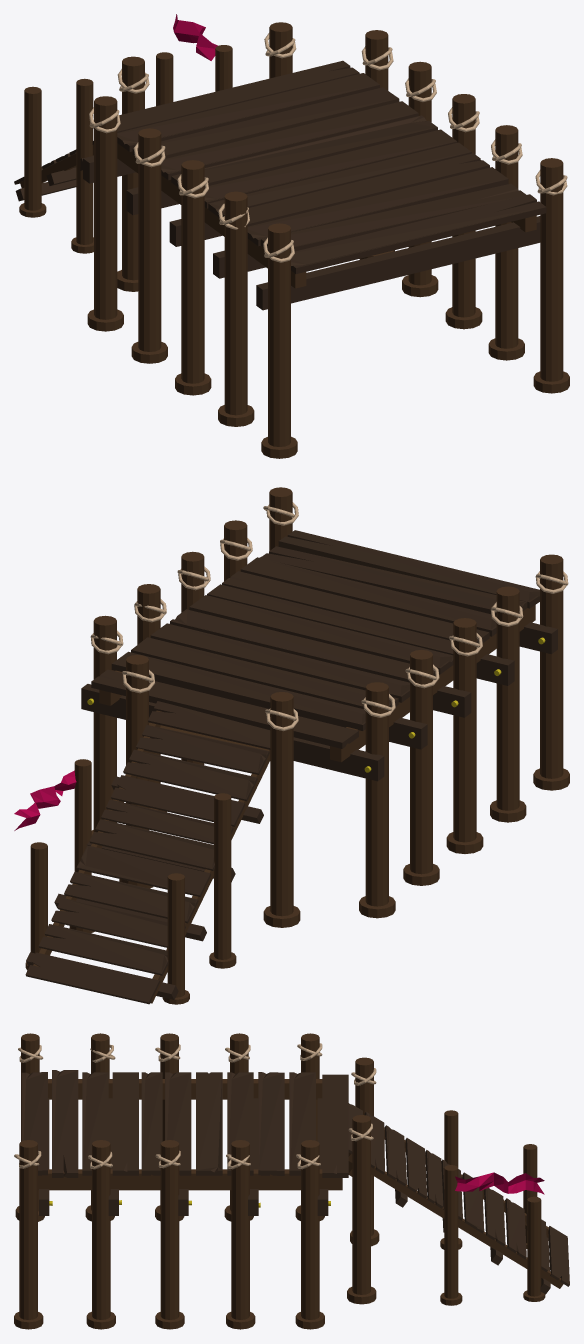
Rendered from dock.fbx.
3 views of the same model, one above another, from view 1: azimuth 30°, elevation 25°; view 2: azimuth 150°, elevation 25°; view 3: azimuth 270°, elevation 25° (orthographic). The views are drawn at different scales.
Visible parts, largest first — view 1: pillar7; view 2: pillar7; view 3: pillar7.
Boxes of the visible parts, x1,y1,x2,y2 form: pillar7: (14,14,569,458); pillar7: (14,487,569,1004); pillar7: (14,1033,569,1329).
Size of the model in its own units: 8.19 by 5.88 by 16.19.
